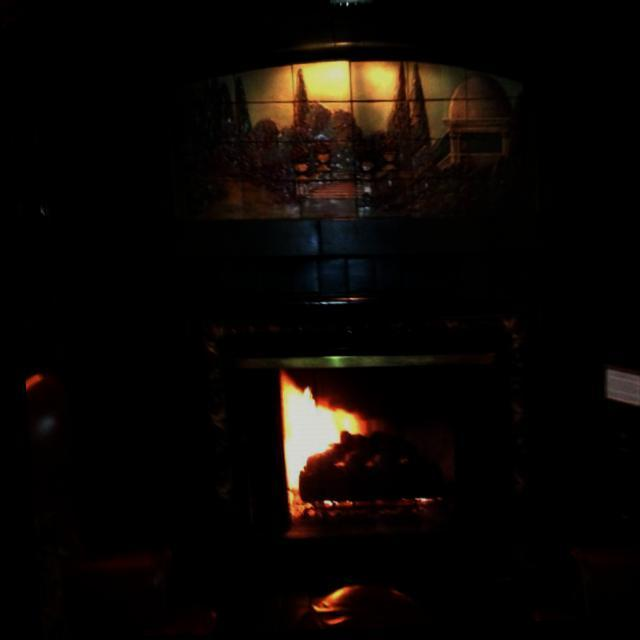Fire: (272, 376, 358, 497)
